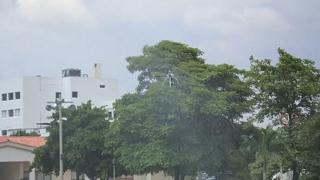UAV: (157, 70, 185, 89)
